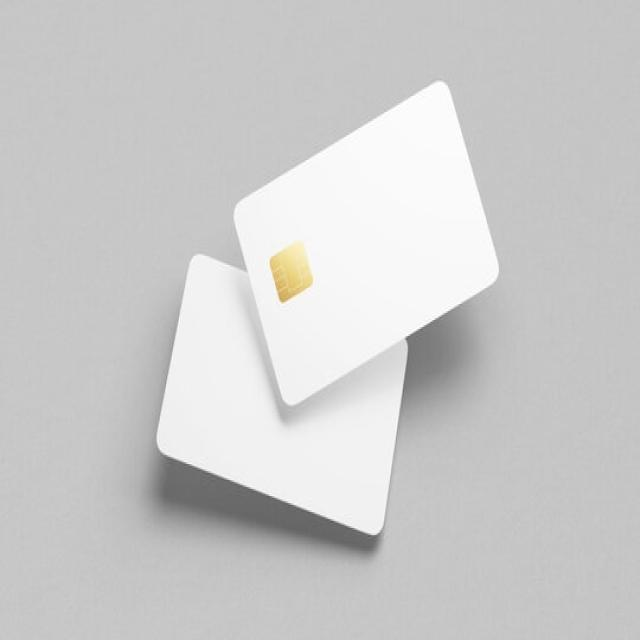payment_card: (231, 78, 500, 408)
